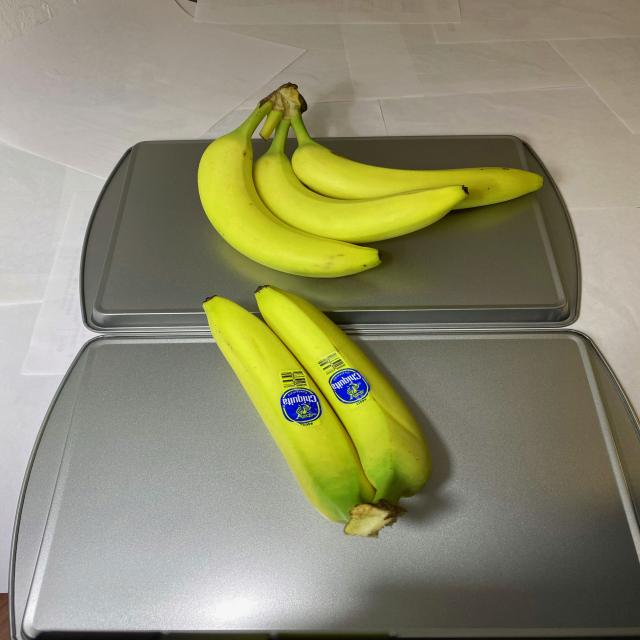banana: (193, 83, 547, 277), (198, 284, 437, 535)
